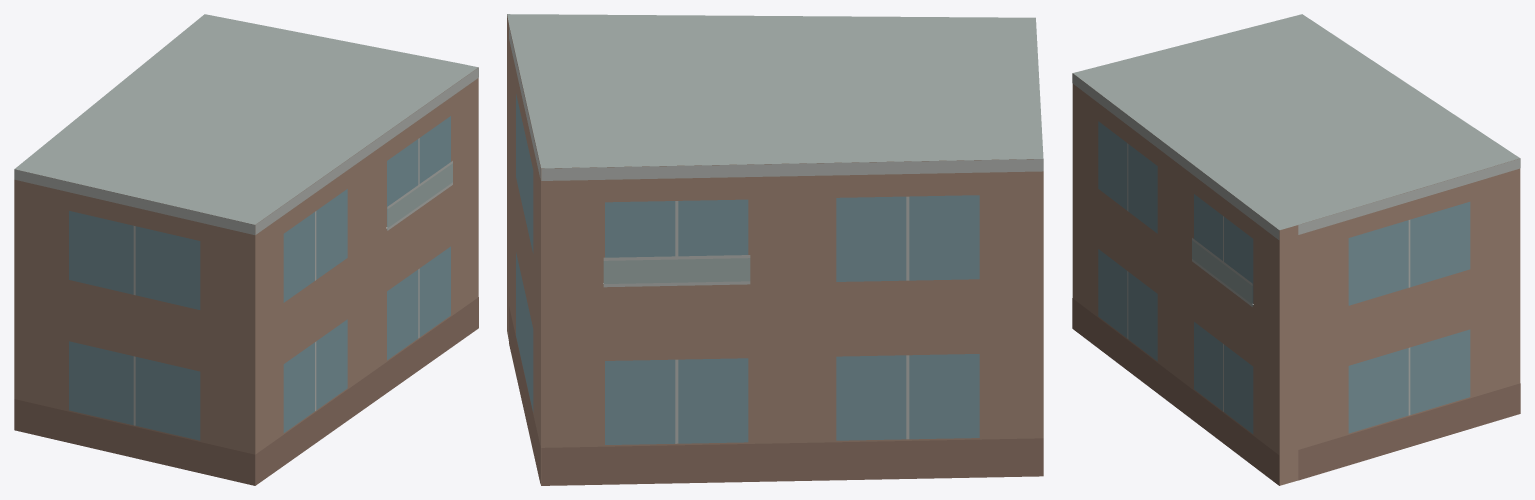
Rendered from survey-upis-32900136.glb.
The picture shows the model from 3 angles, left to right: view 1: azimuth 30°, elevation 25°; view 2: azimuth 150°, elevation 25°; view 3: azimuth 270°, elevation 25°; orthographic projection. The views are drawn at different scales.
Parts seen in each view (by area): view 1: survey-upis-32900136.tmp; view 2: survey-upis-32900136.tmp; view 3: survey-upis-32900136.tmp.
Boxes of the visible parts, x1=… form: survey-upis-32900136.tmp: x1=14, y1=14, x2=478, y2=485; survey-upis-32900136.tmp: x1=507, y1=14, x2=1043, y2=485; survey-upis-32900136.tmp: x1=1072, y1=14, x2=1520, y2=485.
Bounding box in the file's own units: 11.08 × 6.1 × 9.7.
